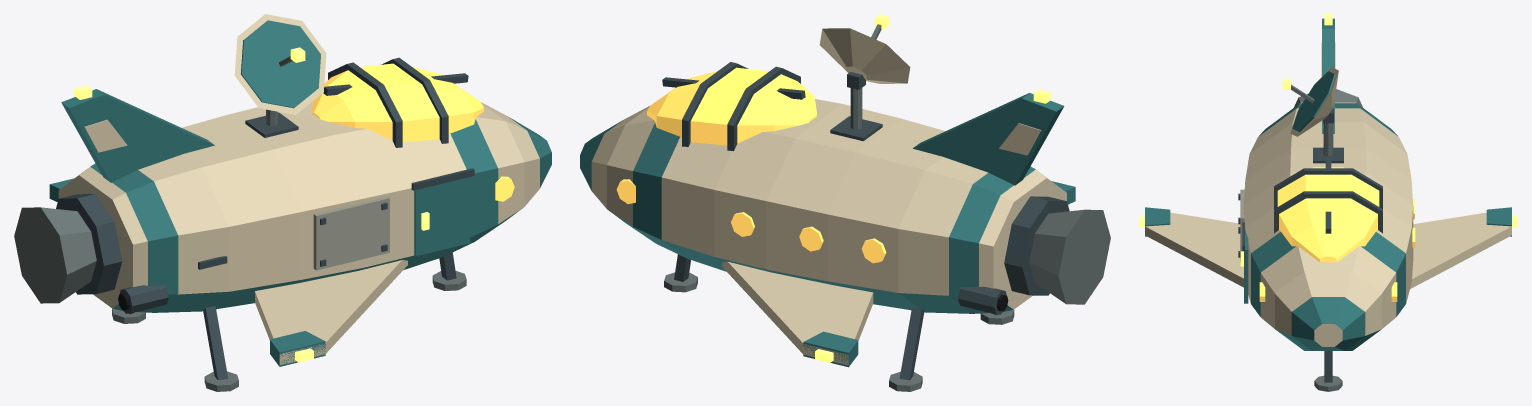
File: spaceship.glb
3 views of the same model, side by side, from view 1: azimuth 30°, elevation 25°; view 2: azimuth 150°, elevation 25°; view 3: azimuth 270°, elevation 25° (orthographic). The views are drawn at different scales.
Visible parts, largest first — view 1: Spaceship Hull, Spaceship Teal, Spaceship Iron, WindshieldRepaired Glass, WingRepaired Hull, EngineRepaired Steel, Radar dish Teal, HullRepaired Patch plate, Radar dish Hull, Spaceship Steel, WingRepaired Teal; view 2: Spaceship Hull, Spaceship Iron, WindshieldRepaired Glass, Spaceship Teal, EngineRepaired Steel, Radar dish Hull, Spaceship Glass, Spaceship Steel, RadarRepaired Steel; view 3: Spaceship Hull, WindshieldRepaired Glass, WingRepaired Hull, Spaceship Iron, Spaceship Teal, Radar dish Teal, Radar dish Hull, WingRepaired Teal, Spaceship Glass, RadarRepaired Steel, Spaceship Steel.
Part boxes in pixels (x1=…): Spaceship Hull: x1=58, y1=101, x2=551, y2=312; Spaceship Teal: x1=49, y1=89, x2=470, y2=256; Spaceship Iron: x1=56, y1=57, x2=474, y2=379; WindshieldRepaired Glass: x1=311, y1=63, x2=483, y2=142; WingRepaired Hull: x1=255, y1=260, x2=407, y2=365; EngineRepaired Steel: x1=14, y1=207, x2=96, y2=303; Radar dish Teal: x1=241, y1=20, x2=320, y2=108; HullRepaired Patch plate: x1=313, y1=196, x2=389, y2=270; Radar dish Hull: x1=234, y1=14, x2=326, y2=114; Spaceship Steel: x1=112, y1=271, x2=466, y2=391; WingRepaired Teal: x1=270, y1=331, x2=325, y2=366; Spaceship Hull: x1=580, y1=99, x2=1066, y2=365; Spaceship Iron: x1=662, y1=62, x2=1069, y2=379; WindshieldRepaired Glass: x1=647, y1=67, x2=816, y2=145; Spaceship Teal: x1=803, y1=93, x2=1064, y2=367; EngineRepaired Steel: x1=1029, y1=209, x2=1110, y2=304; Radar dish Hull: x1=819, y1=28, x2=910, y2=83; Spaceship Glass: x1=616, y1=179, x2=886, y2=263; Spaceship Steel: x1=664, y1=272, x2=1014, y2=391; RadarRepaired Steel: x1=850, y1=88, x2=862, y2=129; Spaceship Hull: x1=1243, y1=42, x2=1511, y2=350; WindshieldRepaired Glass: x1=1277, y1=167, x2=1379, y2=262; WingRepaired Hull: x1=1145, y1=212, x2=1243, y2=287; Spaceship Iron: x1=1242, y1=147, x2=1382, y2=382; Spaceship Teal: x1=1244, y1=18, x2=1511, y2=303; Radar dish Teal: x1=1292, y1=71, x2=1335, y2=132; Radar dish Hull: x1=1290, y1=67, x2=1338, y2=136; WingRepaired Teal: x1=1145, y1=207, x2=1170, y2=236; Spaceship Glass: x1=1259, y1=174, x2=1415, y2=301; RadarRepaired Steel: x1=1323, y1=123, x2=1333, y2=156; Spaceship Steel: x1=1314, y1=375, x2=1342, y2=391.
Size of the model in its own units: 3.28 by 1.92 by 2.68.
